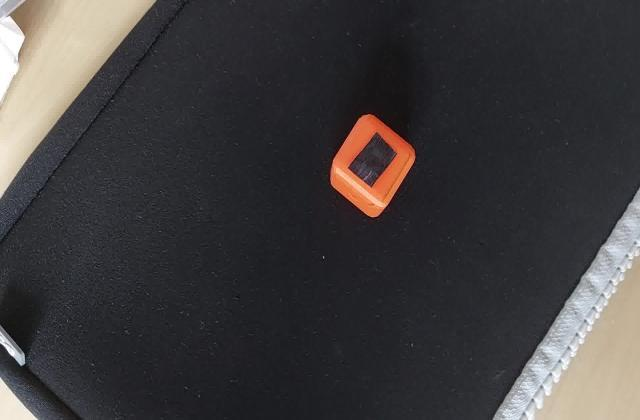black: (346, 134, 402, 186)
sticker: (327, 111, 418, 222)
